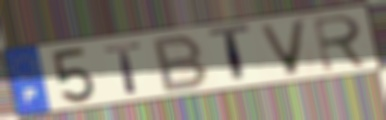5: (49, 45, 98, 106)
B: (152, 32, 212, 95)
R: (311, 12, 372, 74)
T: (205, 22, 253, 86), (102, 40, 146, 96)
V: (255, 18, 310, 77)
